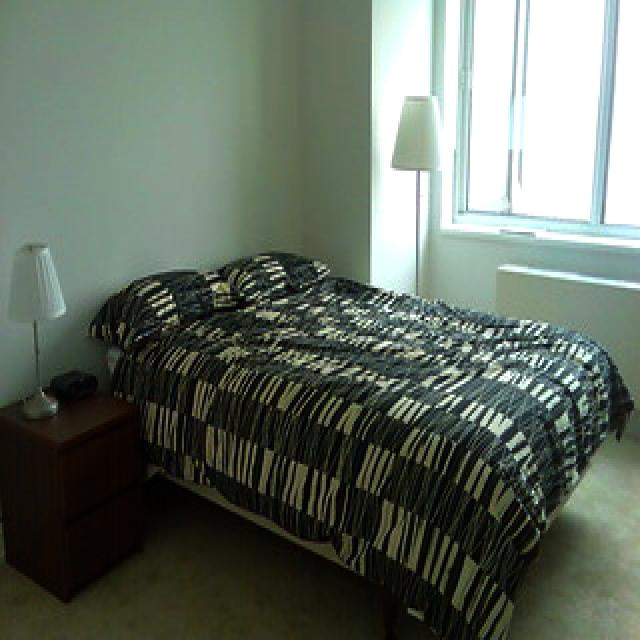bed: (100, 245, 632, 630)
